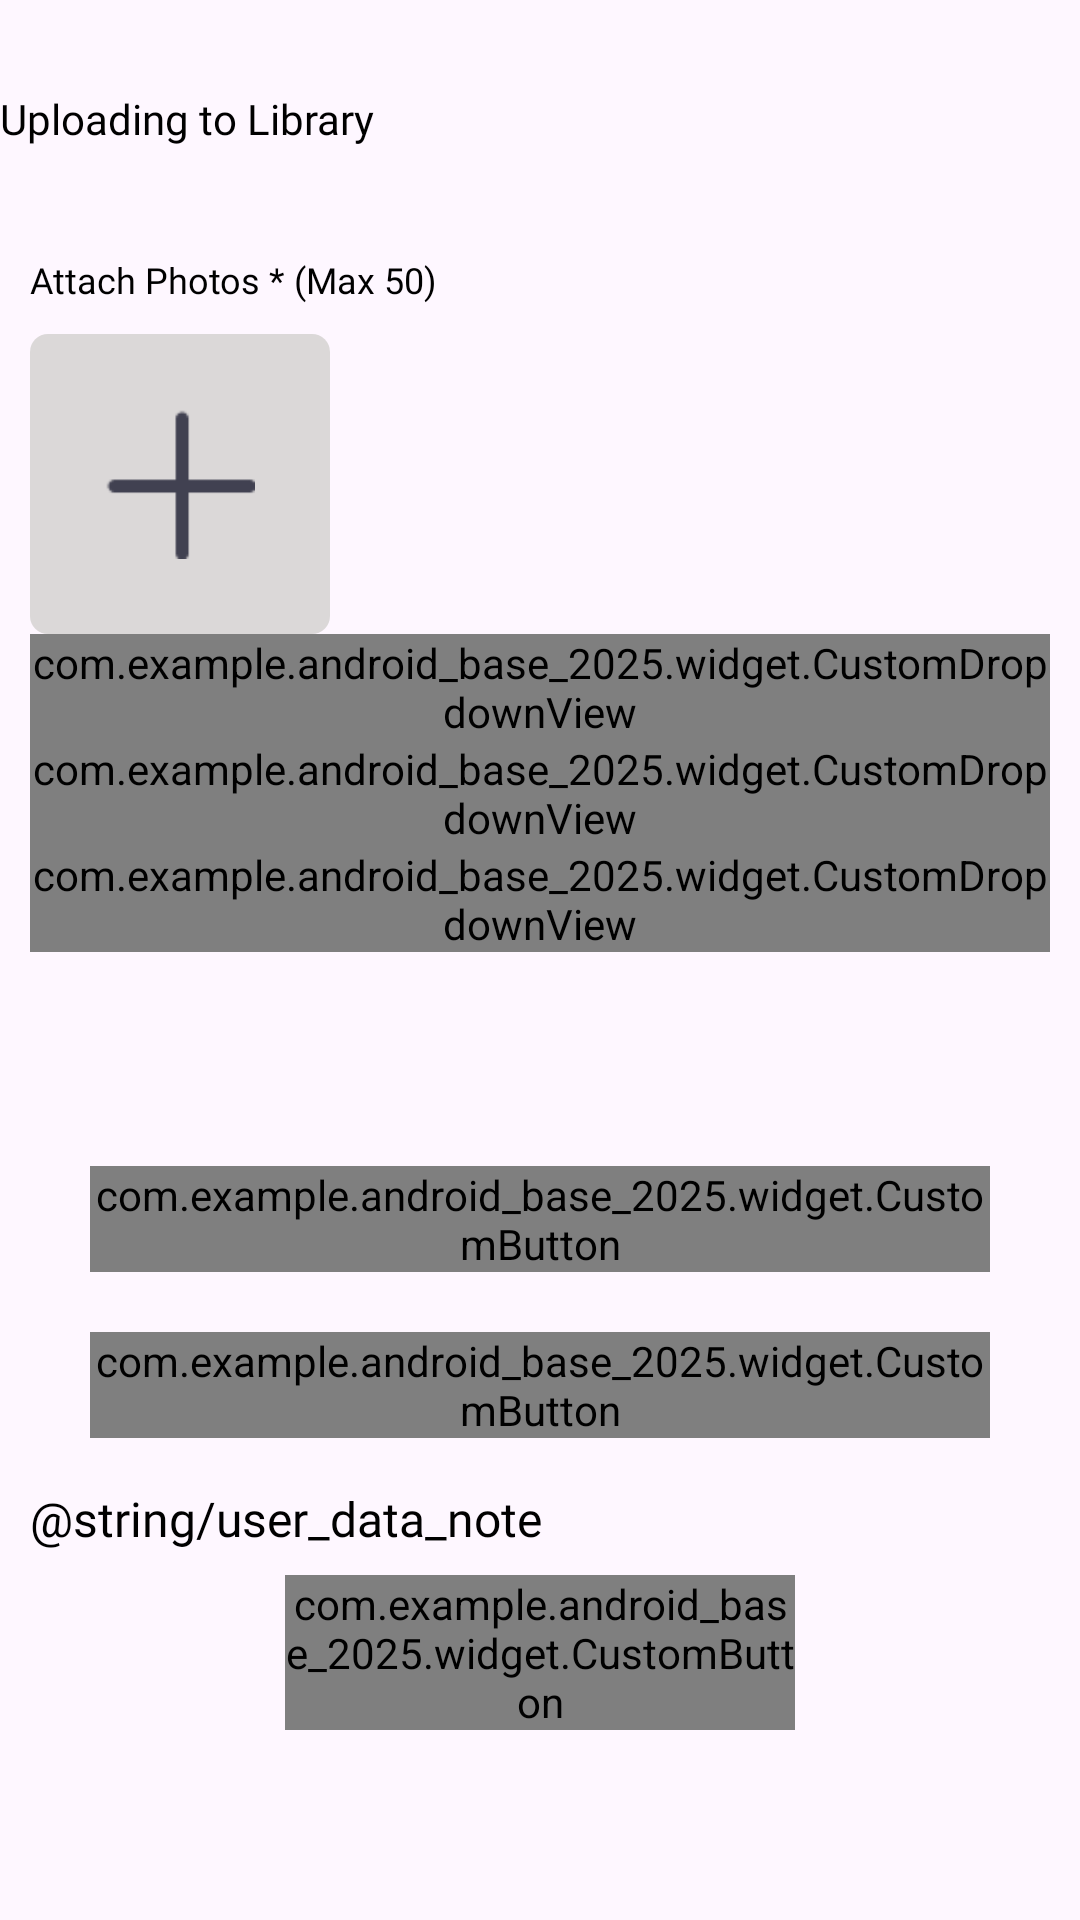

Where to tap for icons on this 1080*1920 app screen, as (x,y):
add: (181,485)
